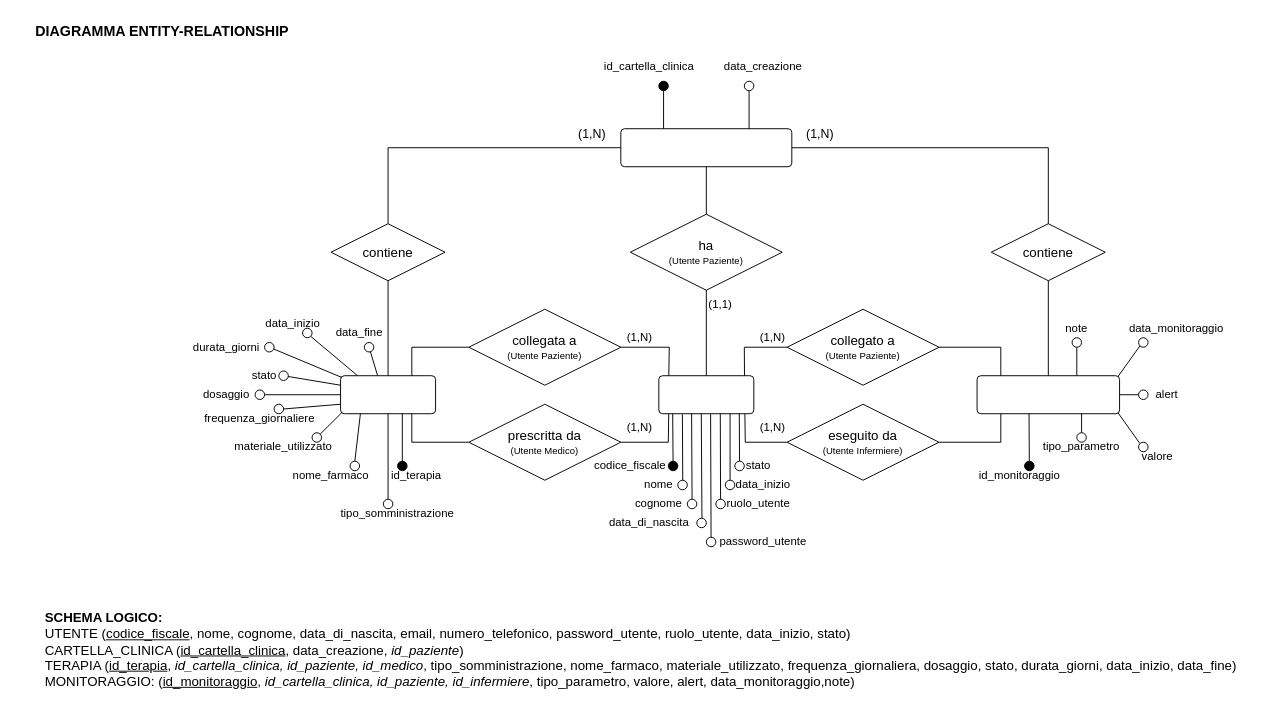
Image size: 1283x724. Some labels were removed from this diagram. Here are the shapes that lost their labels. From the top down, the centre of each, then its label:
At point 706,147: "CARTELLA_CLINICA".
At point 388,394: "TERAPIA".
At point 706,394: "UTENTE".
At point 1048,394: "MONITORAGGIO".
